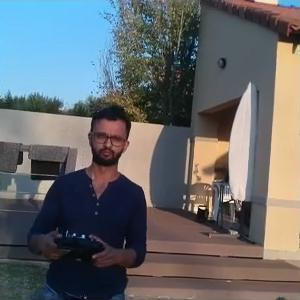follow: (18, 97, 147, 298)
